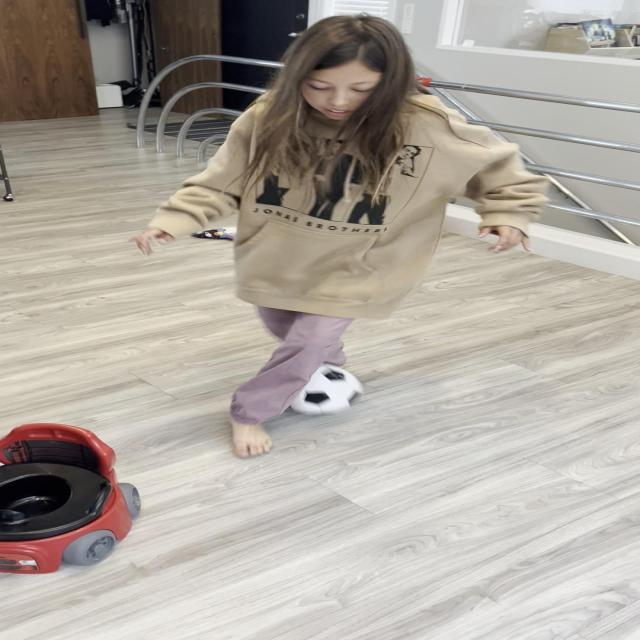Soccer Ball: (280, 365, 365, 414)
